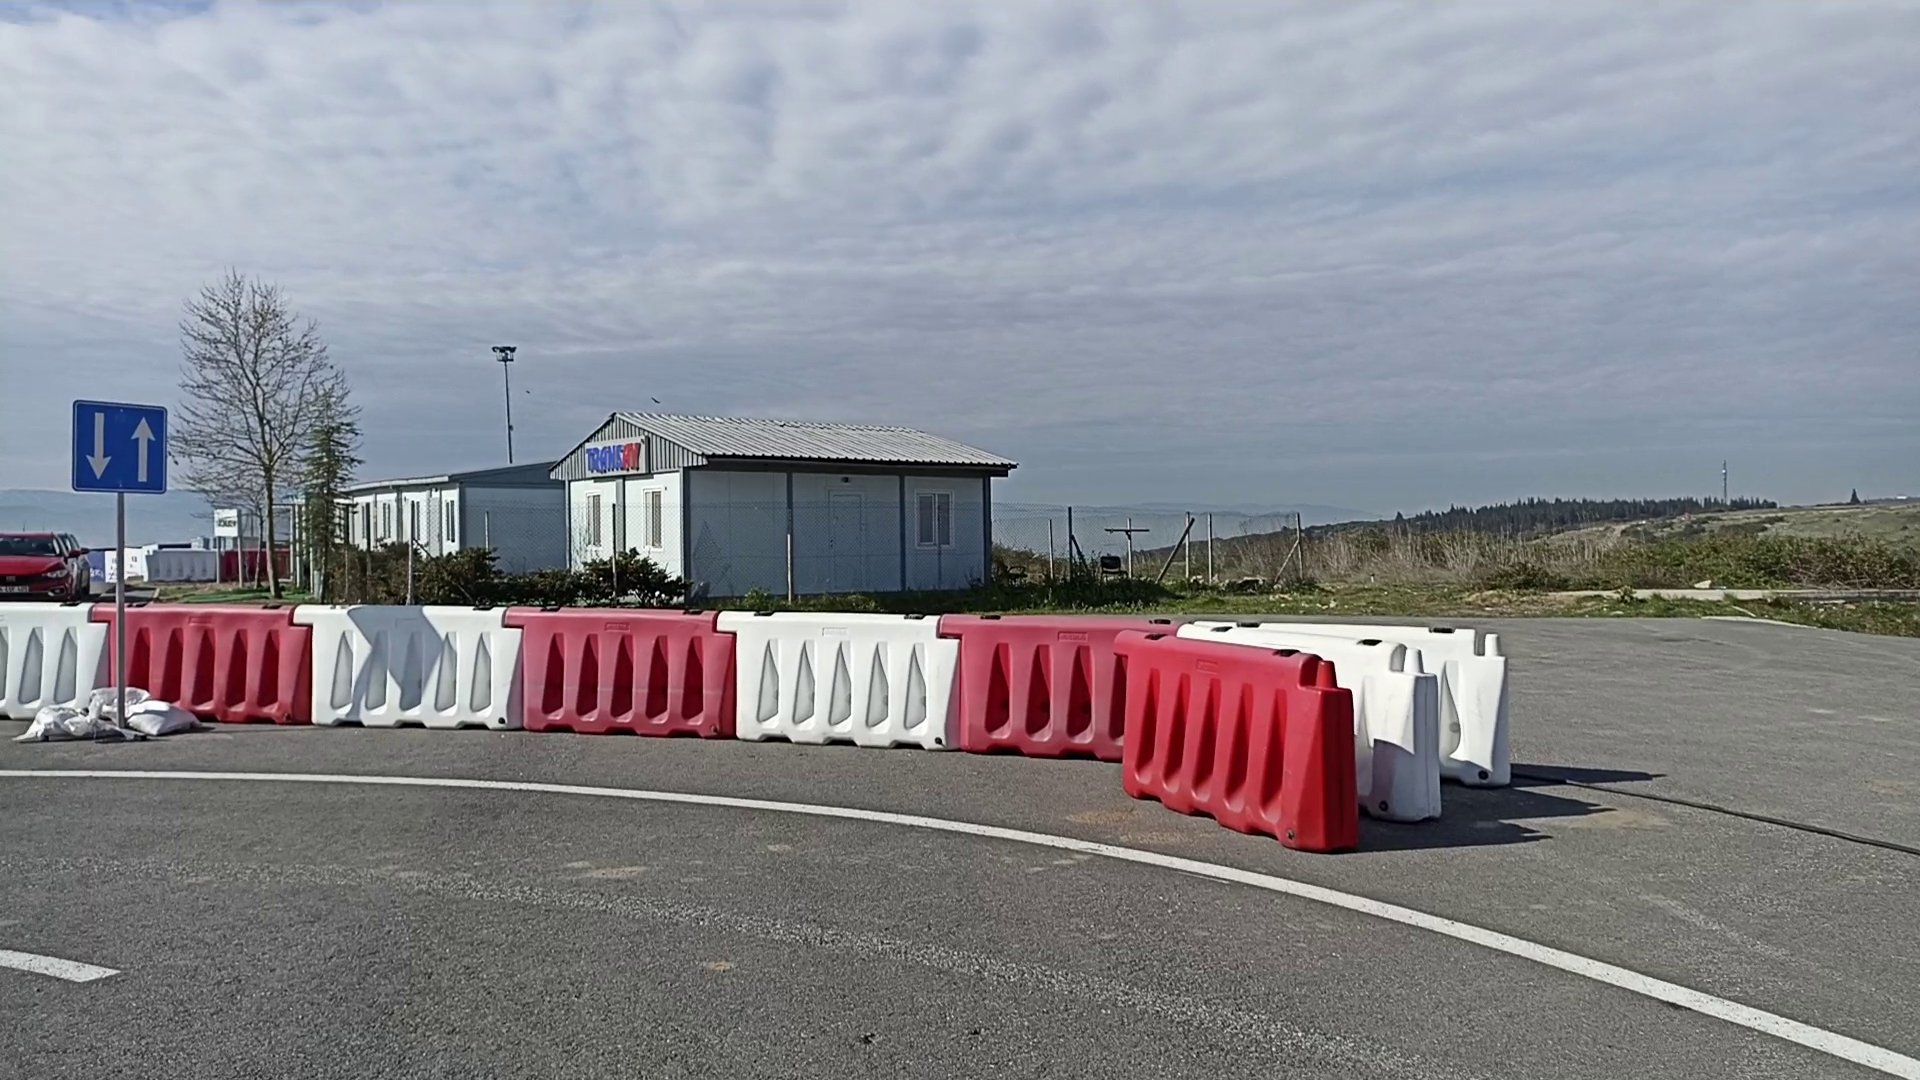oneway: (69, 400, 169, 498)
